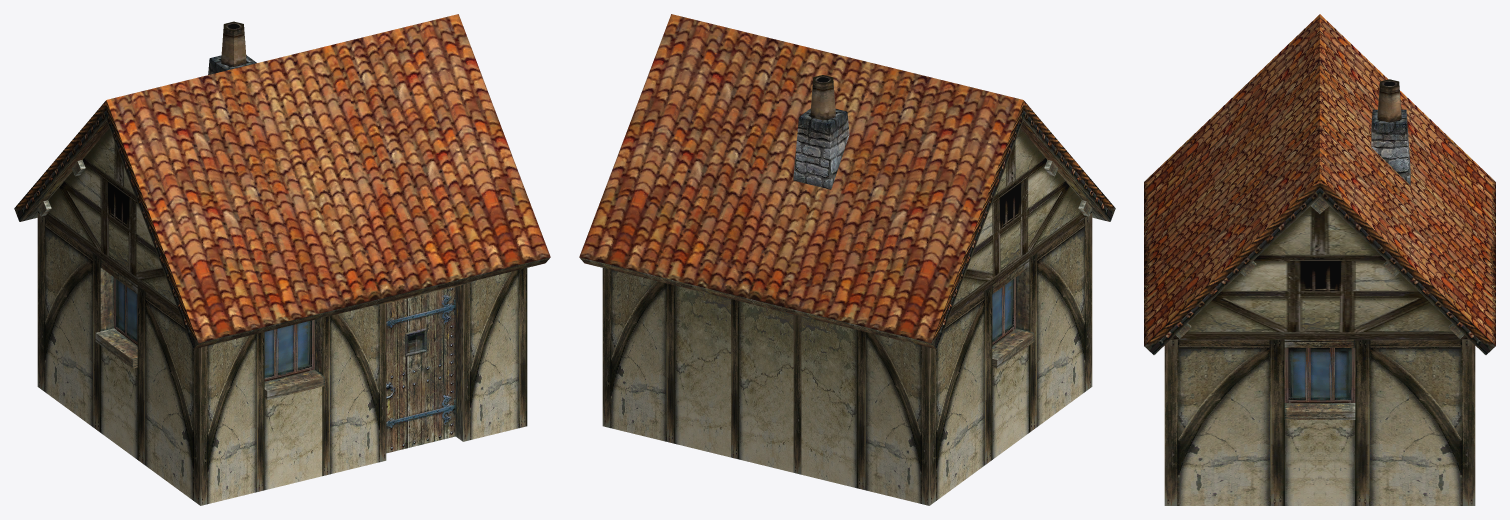
The model's file is S_home12.glb.
3 renders of one model, left to right at view 1: azimuth 30°, elevation 25°; view 2: azimuth 150°, elevation 25°; view 3: azimuth 270°, elevation 25°, orthographic. The views are drawn at different scales.
Visible parts, largest first — view 1: S_home12-col; view 2: S_home12-col; view 3: S_home12-col.
Part boxes in pixels (x1,y1,x2,y2): S_home12-col: [14, 14, 550, 505]; S_home12-col: [579, 14, 1115, 505]; S_home12-col: [1144, 14, 1495, 505].
Size of the model in its own units: 5.5 by 5.32 by 4.98.
9 materials, 9 textured.
